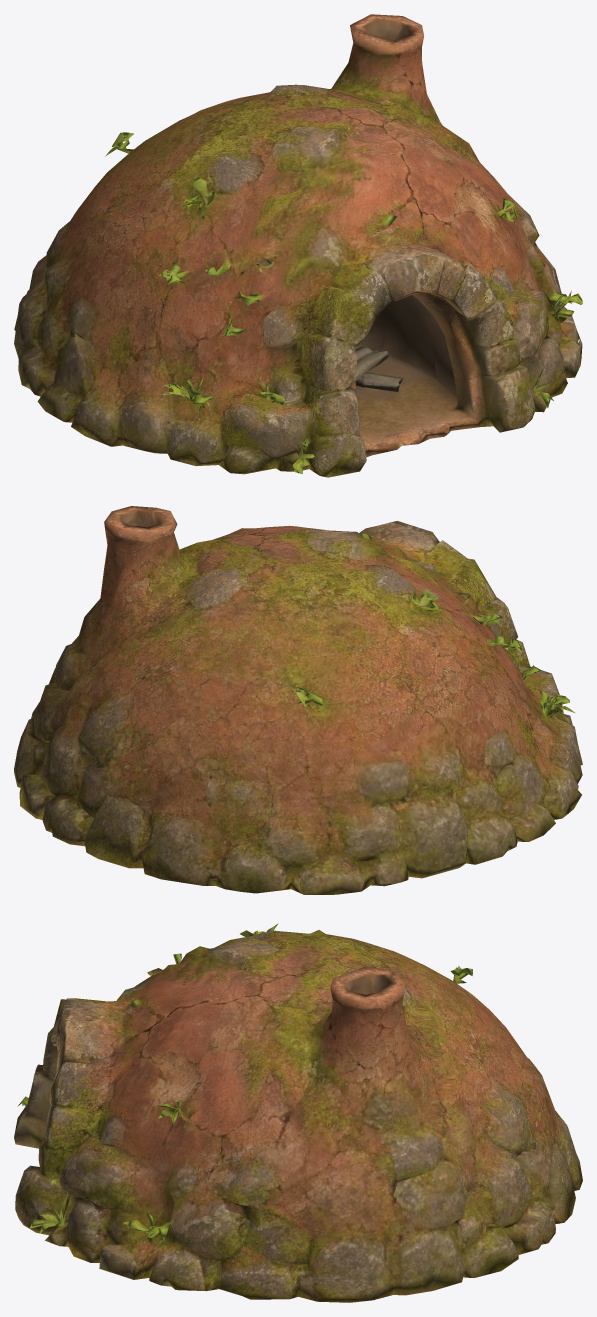
The model's file is kiln.glb.
The picture shows the model from 3 angles, top to bottom: view 1: azimuth 30°, elevation 25°; view 2: azimuth 150°, elevation 25°; view 3: azimuth 270°, elevation 25°; orthographic projection. The views are drawn at different scales.
Visible parts, largest first — view 1: earth dome oven 3d model; view 2: earth dome oven 3d model; view 3: earth dome oven 3d model.
Part boxes in pixels (<box>): earth dome oven 3d model: <box>14,14,582,477</box>; earth dome oven 3d model: <box>14,506,582,894</box>; earth dome oven 3d model: <box>14,923,582,1302</box>.
Bounding box in the file's own units: 4.39 × 2.2 × 4.34.
1 material, 1 textured.
